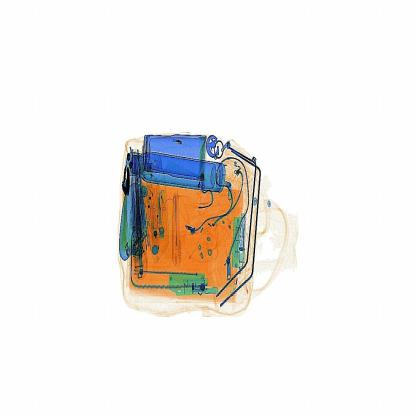pliers: (168, 186, 186, 268)
